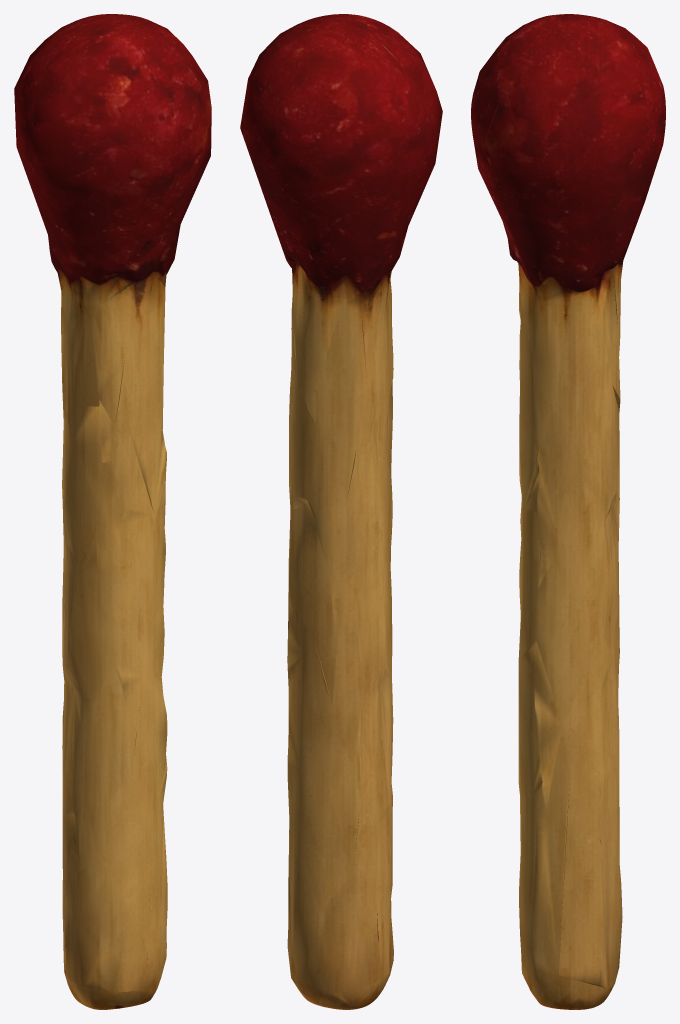
Rendered from match.glb.
The picture shows the model from 3 angles, left to right: view 1: azimuth 30°, elevation 25°; view 2: azimuth 150°, elevation 25°; view 3: azimuth 270°, elevation 25°; orthographic projection.
Visible parts, largest first — view 1: Mesh_0; view 2: Mesh_0; view 3: Mesh_0.
Part boxes in pixels (bbox=[...]): Mesh_0: bbox=[14, 14, 211, 1009]; Mesh_0: bbox=[240, 14, 442, 1009]; Mesh_0: bbox=[471, 14, 665, 1009].
Size of the model in its own units: 0.349 by 1.9 by 0.3451.
1 material, 1 textured.
